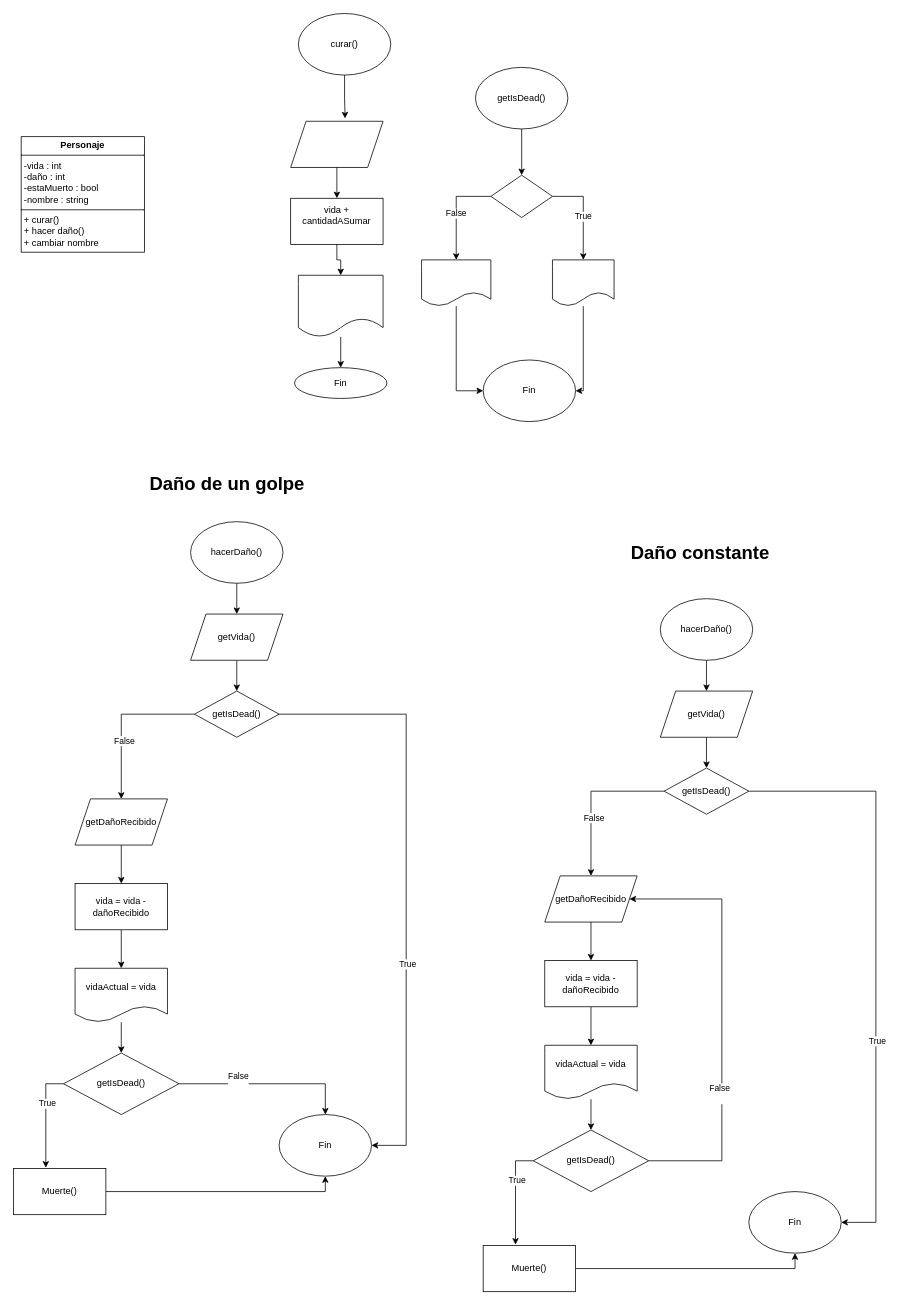
The diagram is 899 pixels wide and 1305 high, and some of its shapes have lost their labels. The shapes that lost their labels are listed below. From the top down, each one's box as (x1, y1, x2, y2) in pixels, then its label:
(290, 121, 383, 167): getVida
(490, 174, 552, 218): vida < 0
(421, 259, 491, 306): estaMuerto = false
(552, 259, 614, 306): estaMuerto = true
(298, 275, 383, 337): Resultado = vida + cantidadASumar
